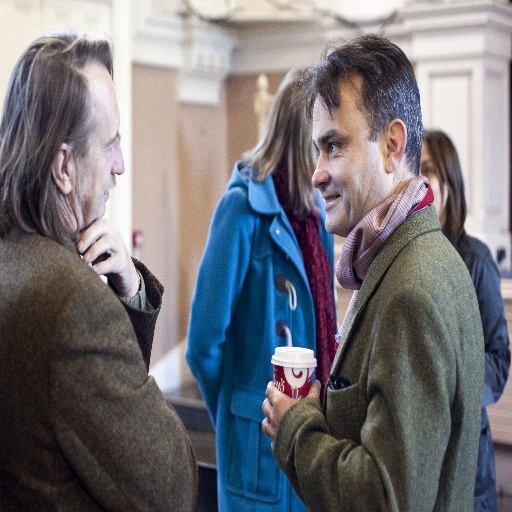hand: (66, 213, 146, 300), (259, 378, 323, 452)
